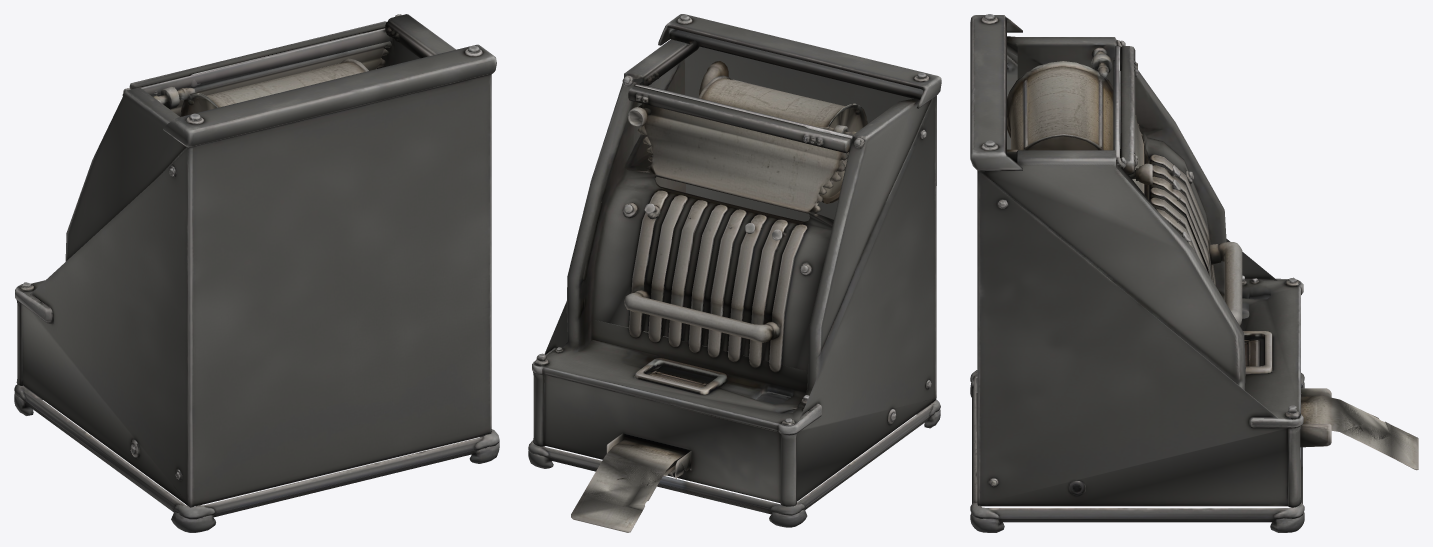
The model's file is theme-ticket-register-v05.glb.
3 renders of one model, left to right at view 1: azimuth 30°, elevation 25°; view 2: azimuth 150°, elevation 25°; view 3: azimuth 270°, elevation 25°, orthographic. The views are drawn at different scales.
Visible parts, largest first — view 1: tripo_node_aa193b06-f75f-4c05-acd0-071a878b937e; view 2: tripo_node_aa193b06-f75f-4c05-acd0-071a878b937e; view 3: tripo_node_aa193b06-f75f-4c05-acd0-071a878b937e.
Boxes of the visible parts, x1=… form: tripo_node_aa193b06-f75f-4c05-acd0-071a878b937e: x1=14, y1=14, x2=499, y2=532; tripo_node_aa193b06-f75f-4c05-acd0-071a878b937e: x1=528, y1=14, x2=941, y2=532; tripo_node_aa193b06-f75f-4c05-acd0-071a878b937e: x1=970, y1=14, x2=1418, y2=532.
Bounding box in the file's own units: 0.3942 × 0.48 × 0.5099.
Materials: 1 (1 with a texture image).
